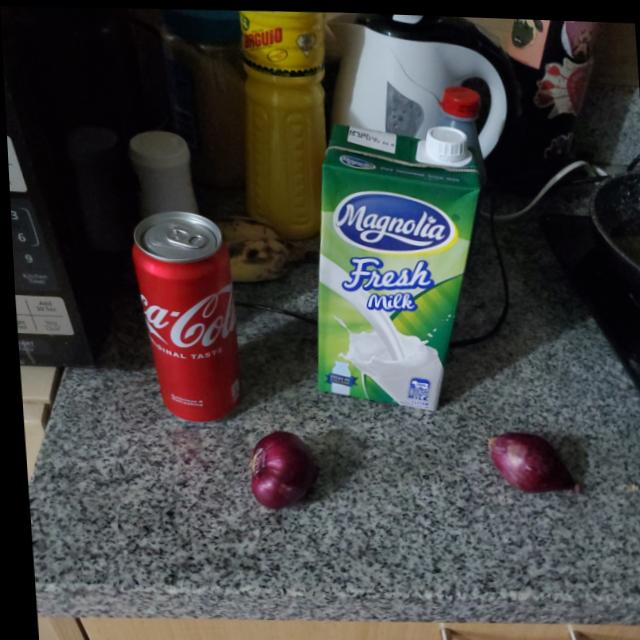coke: (125, 208, 245, 424)
milk: (299, 117, 495, 408)
onion: (234, 421, 314, 506), (476, 421, 573, 491)
